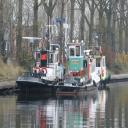tugboat: (16, 38, 65, 102), (55, 40, 103, 101)
